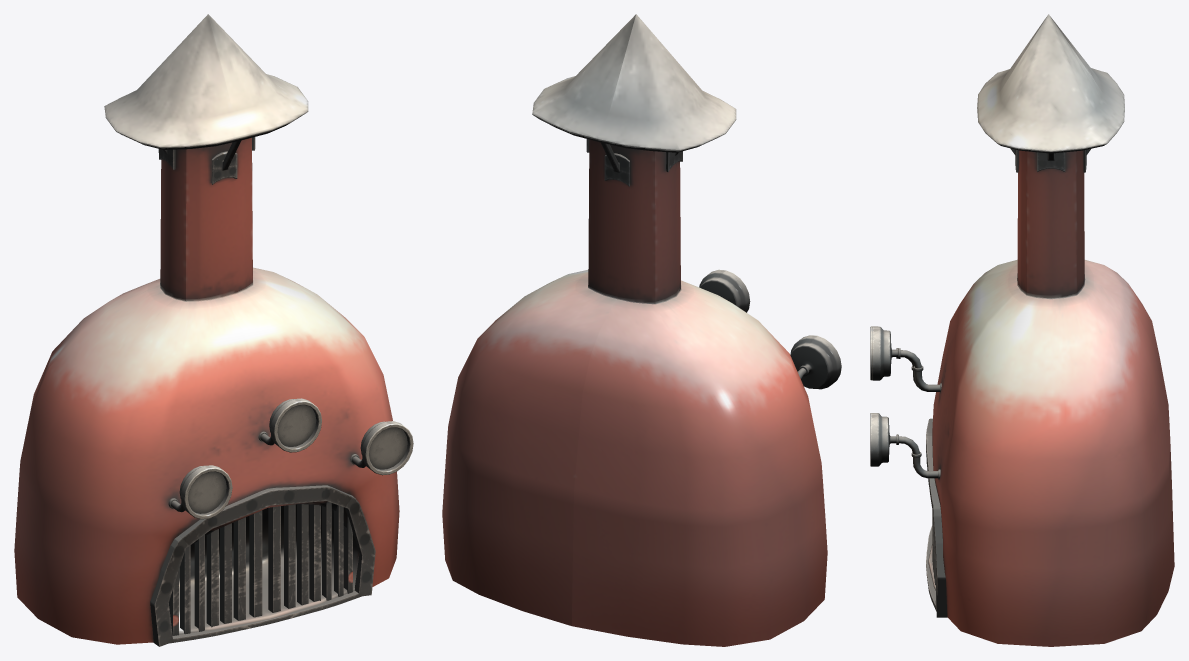
File: enhance.fbx
The picture shows the model from 3 angles, left to right: view 1: azimuth 30°, elevation 25°; view 2: azimuth 150°, elevation 25°; view 3: azimuth 270°, elevation 25°; orthographic projection. The views are drawn at different scales.
Parts seen in each view (by area): view 1: pSphere17, pCube7, pCube6, pCylinder14, pCylinder10, pCylinder15, pCube8; view 2: pSphere17, pCylinder14, pCylinder10, pCube9; view 3: pSphere17, pCube6, pCylinder15, pCylinder10, pCube10.
Boxes of the visible parts, x1,y1,x2,y2 form: pSphere17: (14, 14, 399, 644); pCube7: (150, 489, 270, 646); pCube6: (268, 485, 375, 623); pCylinder14: (168, 465, 232, 519); pCylinder10: (258, 398, 321, 452); pCylinder15: (350, 421, 413, 475); pCube8: (212, 140, 241, 184); pSphere17: (442, 14, 827, 646); pCylinder14: (790, 335, 841, 389); pCylinder10: (699, 269, 750, 312); pCube9: (600, 142, 629, 186); pSphere17: (928, 14, 1174, 646); pCube6: (926, 436, 947, 617); pCylinder15: (870, 413, 940, 479); pCylinder10: (872, 326, 941, 391); pCube10: (1037, 152, 1065, 171).
Size of the model in its own units: 2.99 by 4.72 by 2.35.
1 material, 1 textured.
